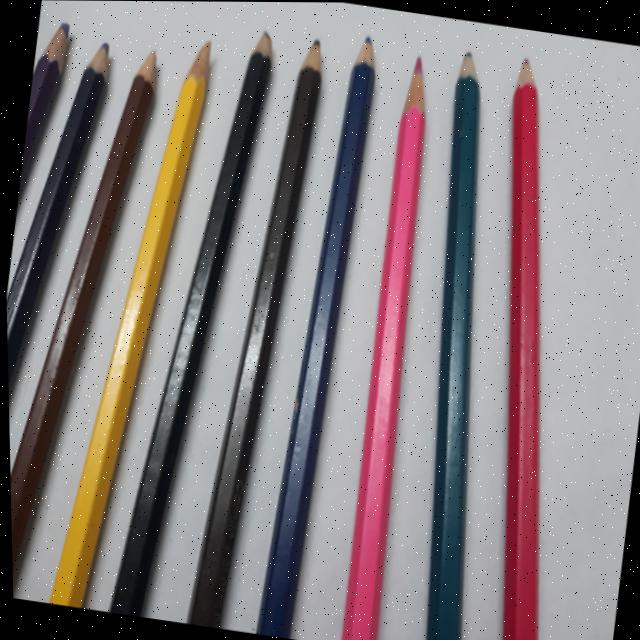pencil: (101, 1, 288, 617), (40, 14, 227, 609), (179, 14, 342, 626), (8, 20, 177, 596), (247, 15, 387, 636), (331, 33, 435, 640), (408, 33, 490, 640), (5, 16, 125, 421), (494, 48, 545, 640), (19, 1, 84, 211)
